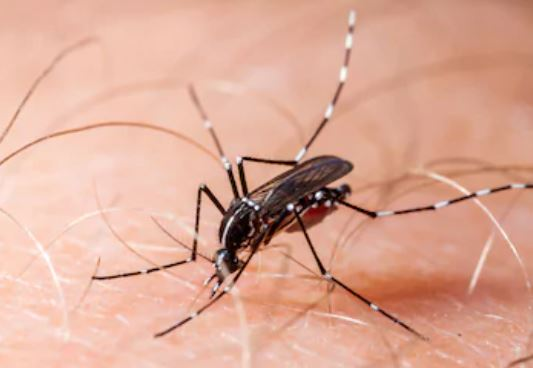dengue_mosquito: (155, 109, 386, 314)
